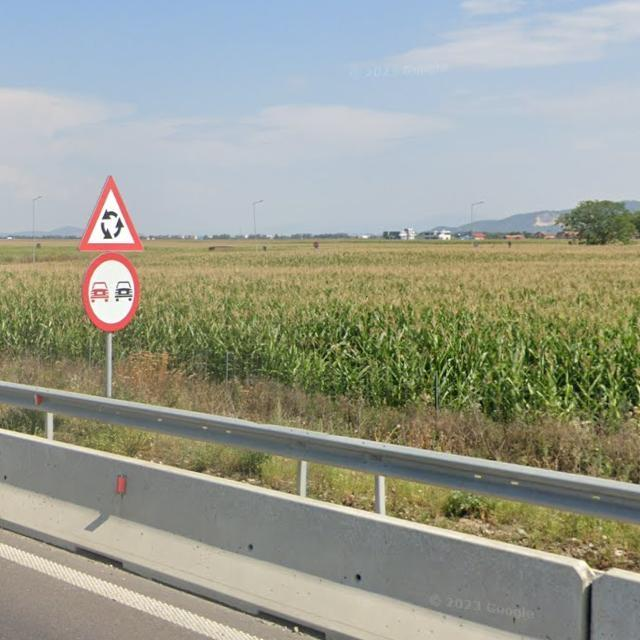forb_overtake: (81, 256, 140, 331)
